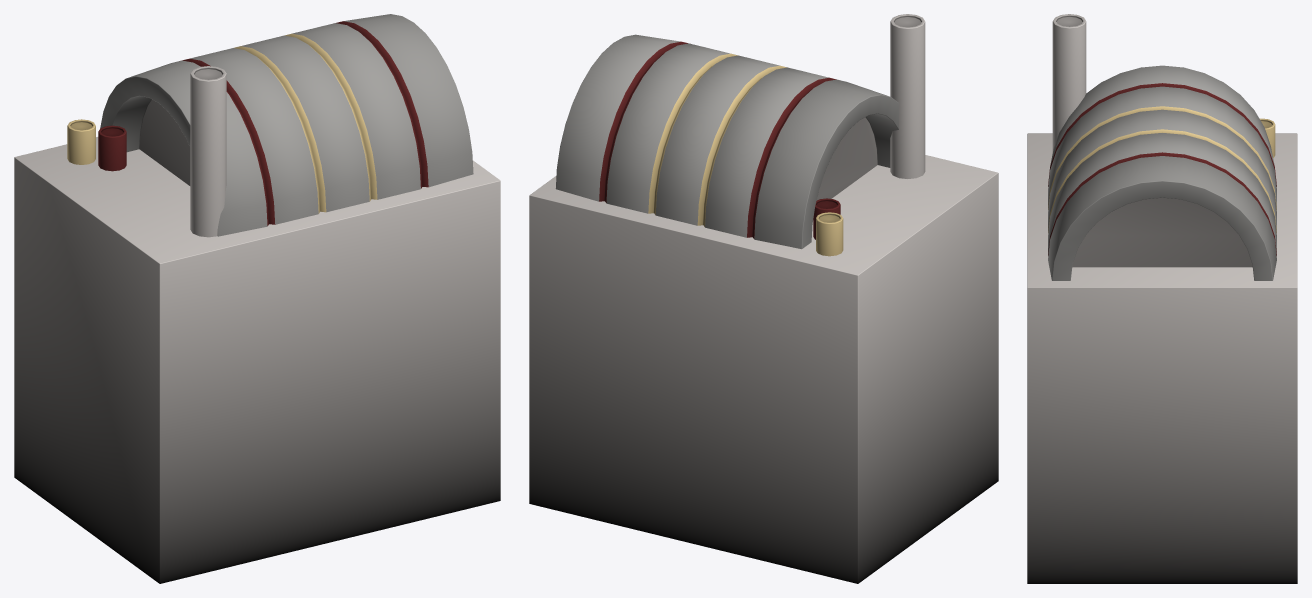
Rendered from building.glb.
3 renders of one model, left to right at view 1: azimuth 30°, elevation 25°; view 2: azimuth 150°, elevation 25°; view 3: azimuth 270°, elevation 25°, orthographic. The views are drawn at different scales.
Parts seen in each view (by area): view 1: building; view 2: building; view 3: building.
Boxes of the visible parts, <box> form: building: <box>14,14,500,583</box>; building: <box>529,14,998,583</box>; building: <box>1027,14,1297,583</box>.
Size of the model in its own units: 223 by 298 by 165.
